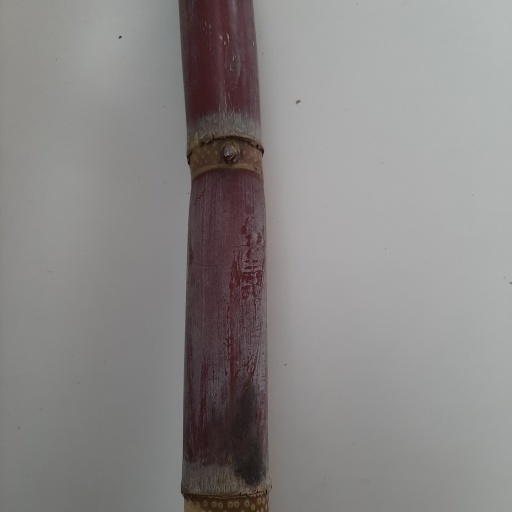Bud: (218, 138, 241, 163)
